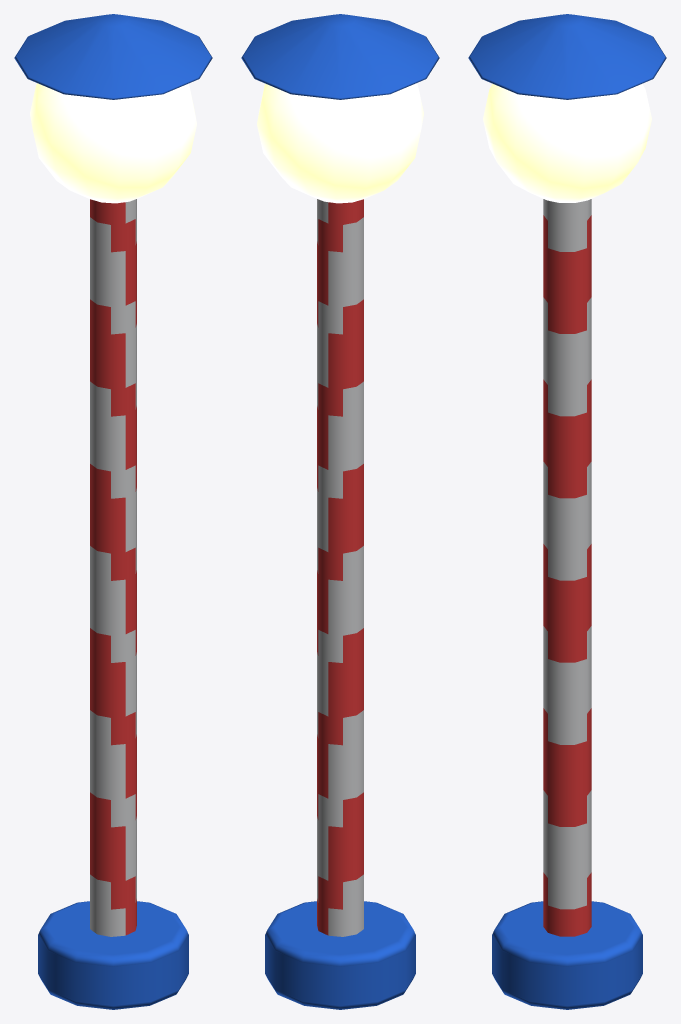
The model's file is ENV_LampPost.glb.
The picture shows the model from 3 angles, left to right: view 1: azimuth 30°, elevation 25°; view 2: azimuth 150°, elevation 25°; view 3: azimuth 270°, elevation 25°; orthographic projection.
Visible parts, largest first — view 1: Lamp, Bulb; view 2: Lamp, Bulb; view 3: Lamp, Bulb.
Boxes of the visible parts, x1,y1,x2,y2 form: Lamp: (14,14,212,1009); Bulb: (30,83,196,203); Lamp: (241,14,439,1009); Bulb: (257,83,423,203); Lamp: (468,14,666,1009); Bulb: (483,83,651,202).
Size of the model in its own units: 0.657 by 3.51 by 0.657.
